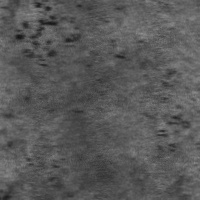rolled-in_scale: (7, 68, 56, 155), (122, 1, 187, 64)
